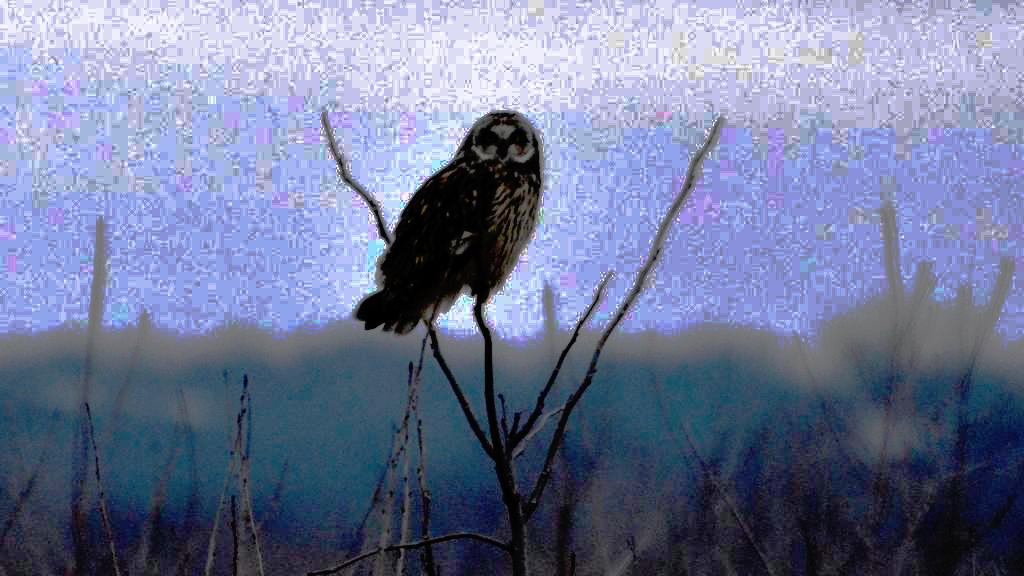Owl: (343, 110, 545, 338)
